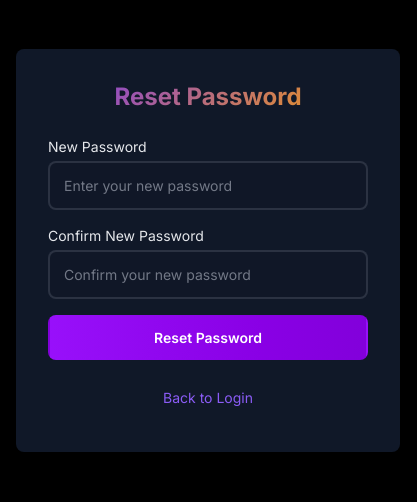
Scenario: ResetPasswordClient › shows error when passwords do not match
The image size is (417, 502).
Type "newpassword123" into the password field labelled "New Password".
click(208, 185); type("newpassword123")  # box top-left (48, 160), bottom-right (368, 210)
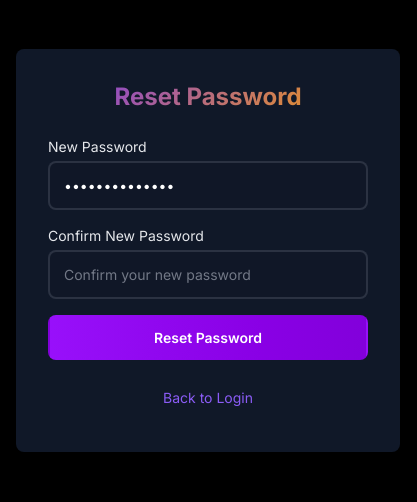
Type "differentpassword123" into the password field labelled "Confirm New Password".
click(208, 274); type("differentpassword123")  # box top-left (48, 250), bottom-right (368, 298)
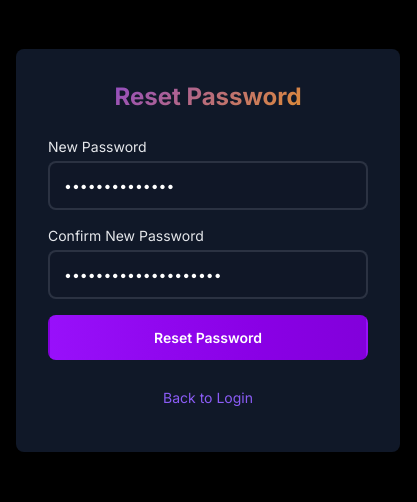
Click the button "Reset Password".
click(208, 337)  # box top-left (48, 314), bottom-right (368, 360)
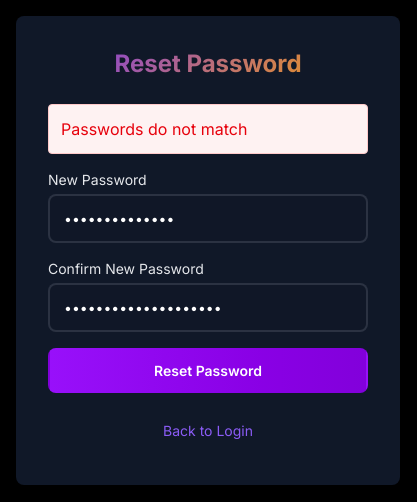
Check: the text "Passwords do not match" is shown, box top-left (48, 104), bottom-right (368, 154)
